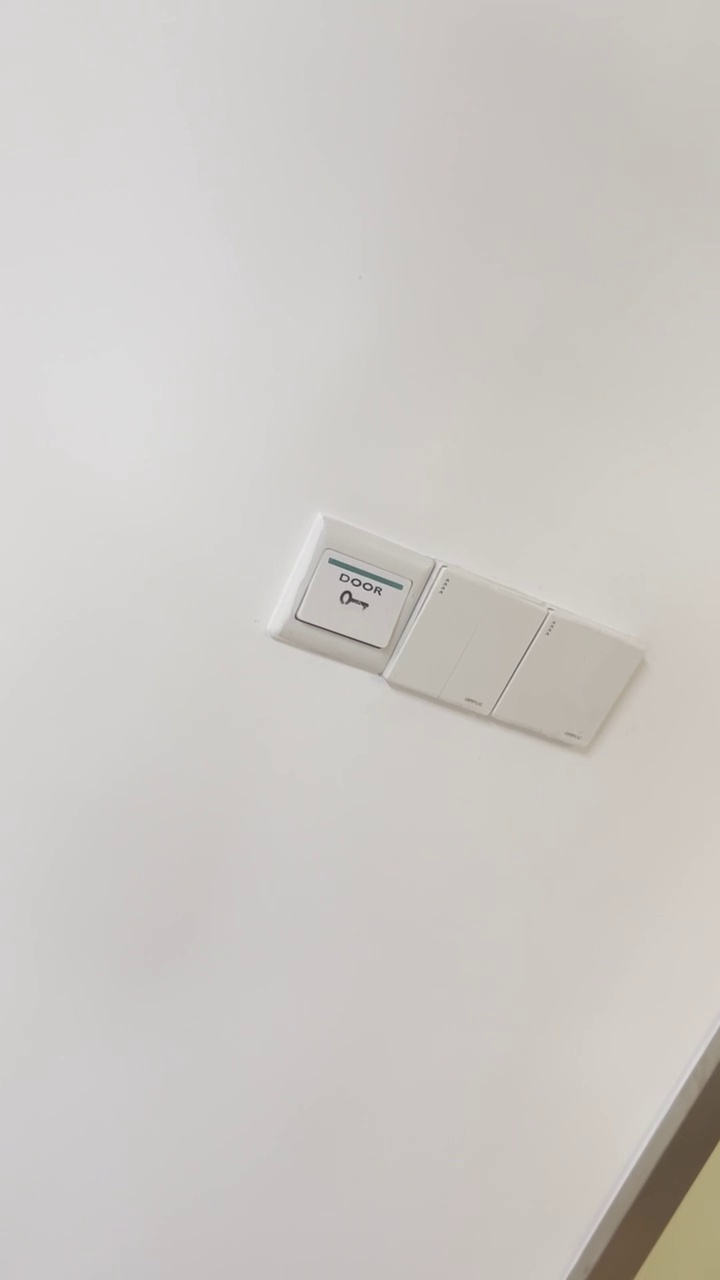button: (377, 563, 556, 722), (487, 602, 650, 757)
